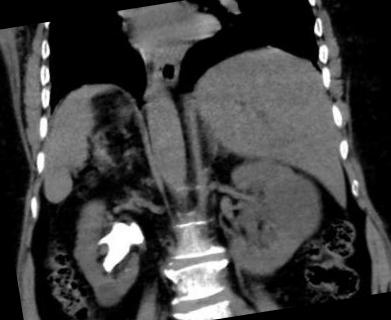Tas_Var: (80, 215, 150, 277)
